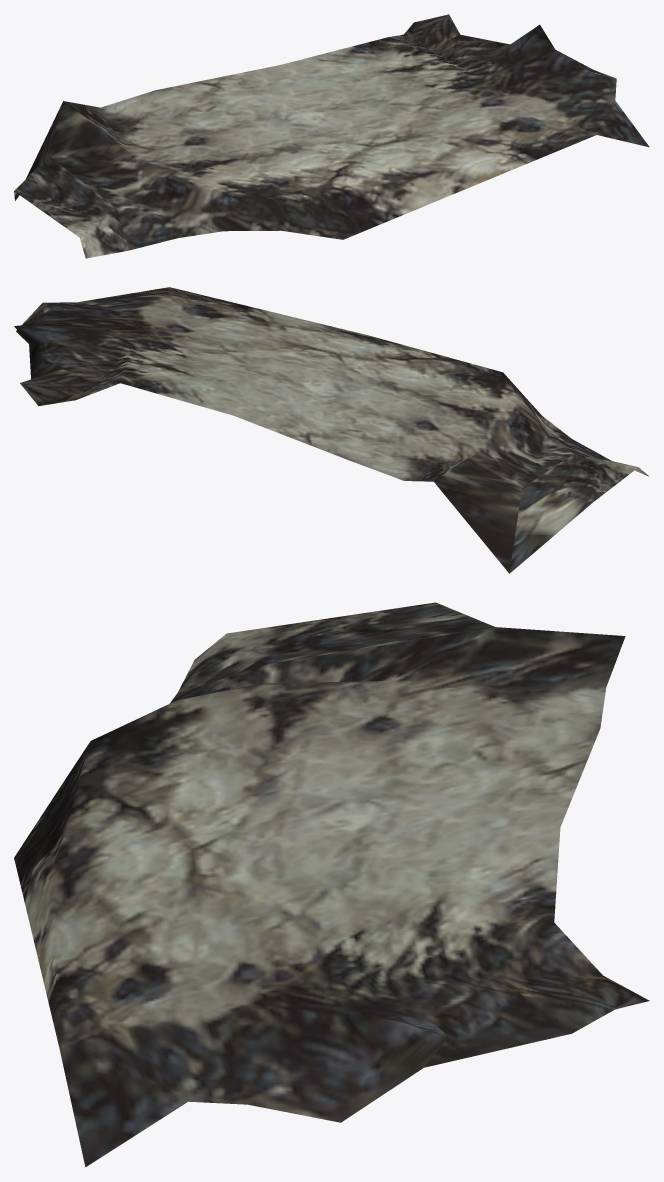
The model's file is S_Build_Desert131_3.FBX.
The picture shows the model from 3 angles, top to bottom: view 1: azimuth 30°, elevation 25°; view 2: azimuth 150°, elevation 25°; view 3: azimuth 270°, elevation 25°; orthographic projection. The views are drawn at different scales.
Parts seen in each view (by area): view 1: S_Build_Desert131_3; view 2: S_Build_Desert131_3; view 3: S_Build_Desert131_3.
Boxes of the visible parts, box(x1,y1,x2,y2) form: S_Build_Desert131_3: box(14, 14, 649, 258); S_Build_Desert131_3: box(14, 287, 648, 573); S_Build_Desert131_3: box(14, 602, 649, 1167).
Size of the model in its own units: 805 by 410 by 115.
